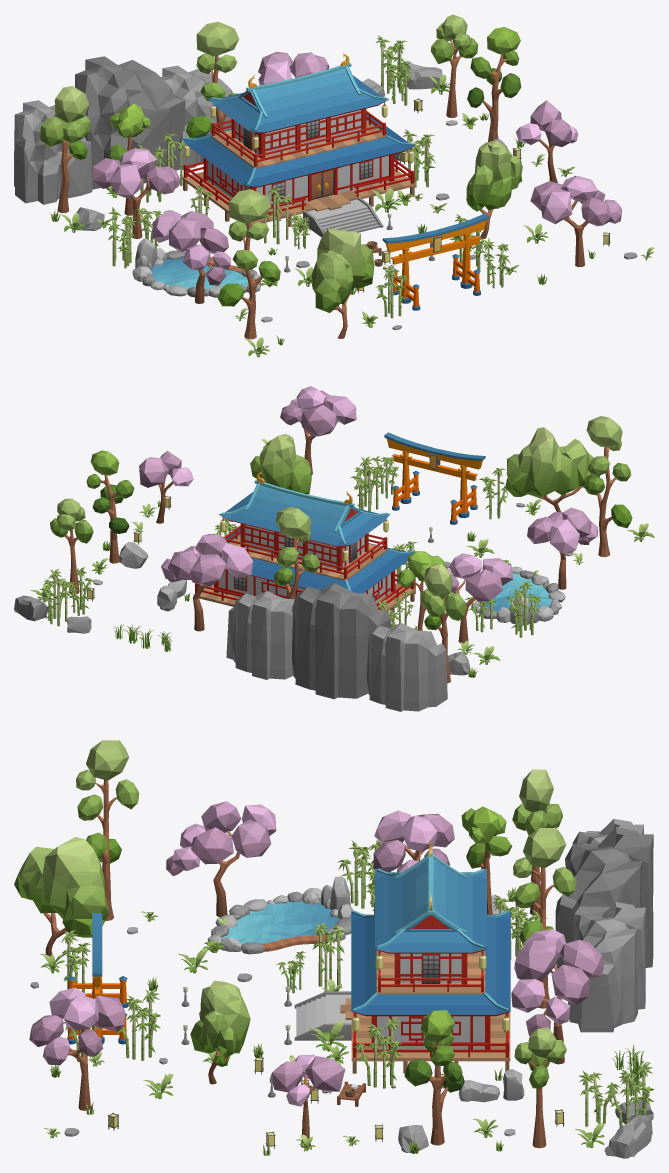
File: field_06.glb
3 views of the same model, one above another, from view 1: azimuth 30°, elevation 25°; view 2: azimuth 150°, elevation 25°; view 3: azimuth 270°, elevation 25° (orthographic). The views are drawn at different scales.
Visible parts, largest first — view 1: old palace_73, stone large 2_25, stone large (1)_9, tree 3_112, tree 4_59, sakura tree 3_110, torii gate 3_71, hot spring_38, sakura tree 2_7, sakura tree 2 (1)_13, tree 2_16, tree 8_68 (+17 smaller); view 2: old palace_73, stone large 2_25, stone large (1)_9, stone large_76, tree 3_112, sakura tree 3 (1)_32, torii gate 3_71, tree 4_59, sakura tree 2_7, hot spring_38, sakura tree 2 (1)_13, sakura tree 3_110 (+15 smaller); view 3: old palace_73, stone large 2_25, stone large_76, hot spring_38, tree 3_112, sakura tree 3 (1)_32, sakura tree 3_110, sakura tree 2_7, tree 4_59, tree 4 (1)_49, tree 2_16, sakura tree 2 (1)_13 (+17 smaller).
Boxes of the visible parts, left/top/right/bottom form: old palace_73: left=182, top=53, right=415, bottom=237; stone large 2_25: left=75, top=56, right=185, bottom=191; stone large (1)_9: left=14, top=100, right=92, bottom=204; tree 3_112: left=311, top=228, right=374, bottom=338; tree 4_59: left=218, top=189, right=280, bottom=339; sakura tree 3_110: left=152, top=211, right=231, bottom=303; torii gate 3_71: left=382, top=213, right=489, bottom=310; hot spring_38: left=132, top=238, right=261, bottom=297; sakura tree 2_7: left=530, top=176, right=622, bottom=267; sakura tree 2 (1)_13: left=92, top=148, right=180, bottom=238; tree 2_16: left=466, top=140, right=522, bottom=239; tree 8_68: left=40, top=86, right=90, bottom=212; old palace_73: left=193, top=471, right=415, bottom=612; stone large 2_25: left=292, top=583, right=390, bottom=699; stone large (1)_9: left=366, top=623, right=447, bottom=711; stone large_76: left=226, top=591, right=294, bottom=679; tree 3_112: left=505, top=427, right=599, bottom=511; sakura tree 3 (1)_32: left=161, top=534, right=253, bottom=631; torii gate 3_71: left=384, top=432, right=485, bottom=524; tree 4_59: left=585, top=416, right=632, bottom=557; sakura tree 2_7: left=280, top=386, right=356, bottom=475; hot spring_38: left=471, top=566, right=565, bottom=625; sakura tree 2 (1)_13: left=446, top=553, right=513, bottom=643; sakura tree 3_110: left=527, top=507, right=597, bottom=589; old palace_73: left=294, top=841, right=510, bottom=1073; stone large 2_25: left=555, top=827, right=653, bottom=968; stone large_76: left=568, top=902, right=645, bottom=1032; hot spring_38: left=207, top=876, right=353, bottom=954; tree 3_112: left=14, top=837, right=108, bottom=956; sakura tree 3 (1)_32: left=511, top=929, right=603, bottom=1064; sakura tree 3_110: left=166, top=801, right=276, bottom=917; sakura tree 2_7: left=29, top=987, right=125, bottom=1110; tree 4_59: left=76, top=740, right=139, bottom=920; tree 4 (1)_49: left=513, top=827, right=576, bottom=1008; tree 2_16: left=190, top=980, right=250, bottom=1084; sakura tree 2 (1)_13: left=373, top=810, right=454, bottom=872.
Bounding box in the file's own units: 20.17 × 8.18 × 20.69.
Materials: 1 (1 with a texture image).
